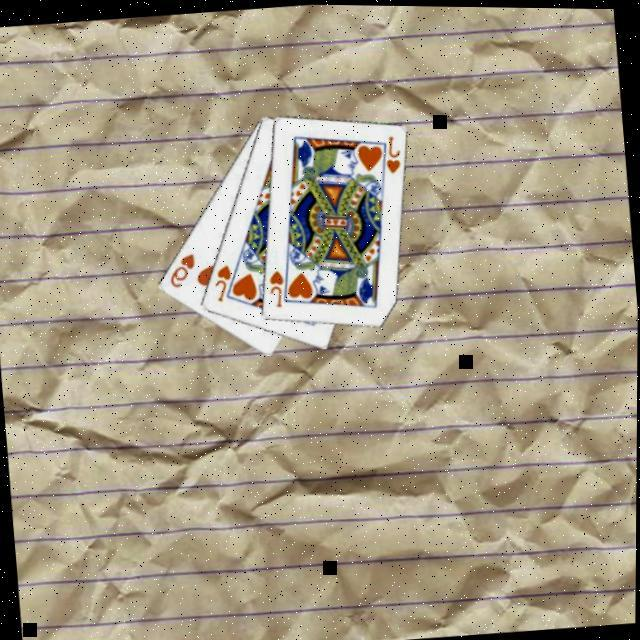6H: (164, 251, 198, 292)
JH: (209, 262, 235, 306), (264, 267, 288, 311), (379, 134, 403, 178)
